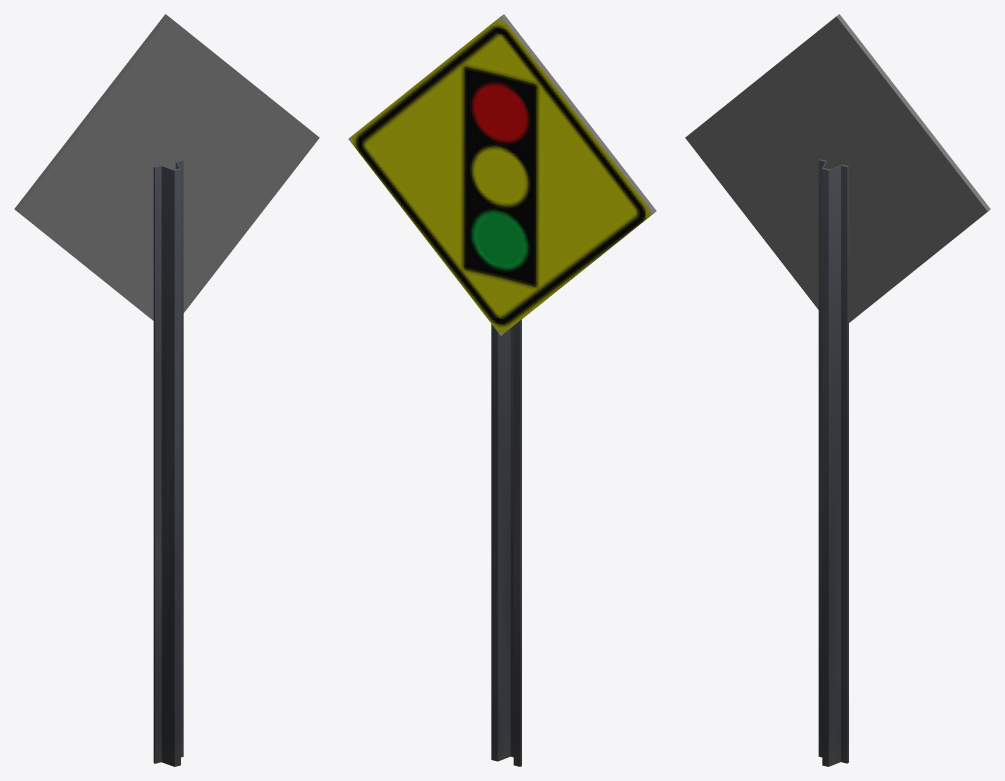
Rendered from warning_trafficlights.obj.
3 views of the same model, side by side, from view 1: azimuth 30°, elevation 25°; view 2: azimuth 150°, elevation 25°; view 3: azimuth 330°, elevation 25° (orthographic).
Visible parts, largest first — view 1: Mesh; view 2: Mesh; view 3: Mesh.
Part boxes in pixels (box(x1,y1,x2,y2)): Mesh: box(14, 14, 319, 766); Mesh: box(348, 14, 656, 766); Mesh: box(685, 14, 990, 766).
Size of the model in its own units: 0.2382 by 0.5585 by 0.0181.
